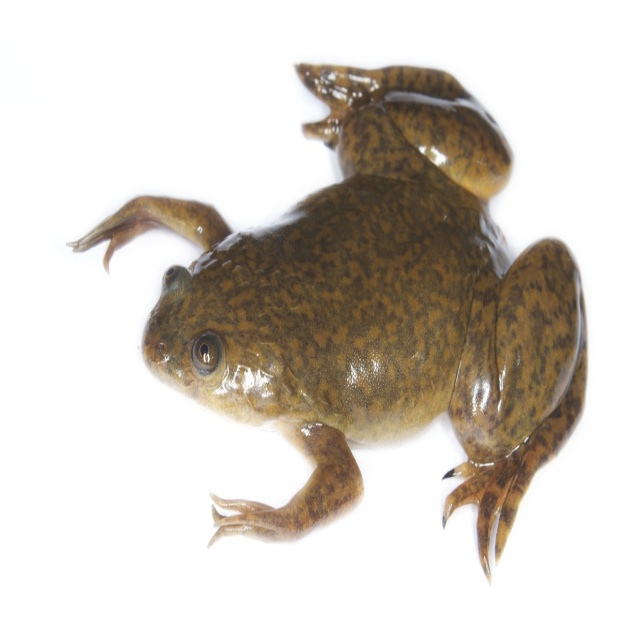Frog: (67, 62, 588, 584)
